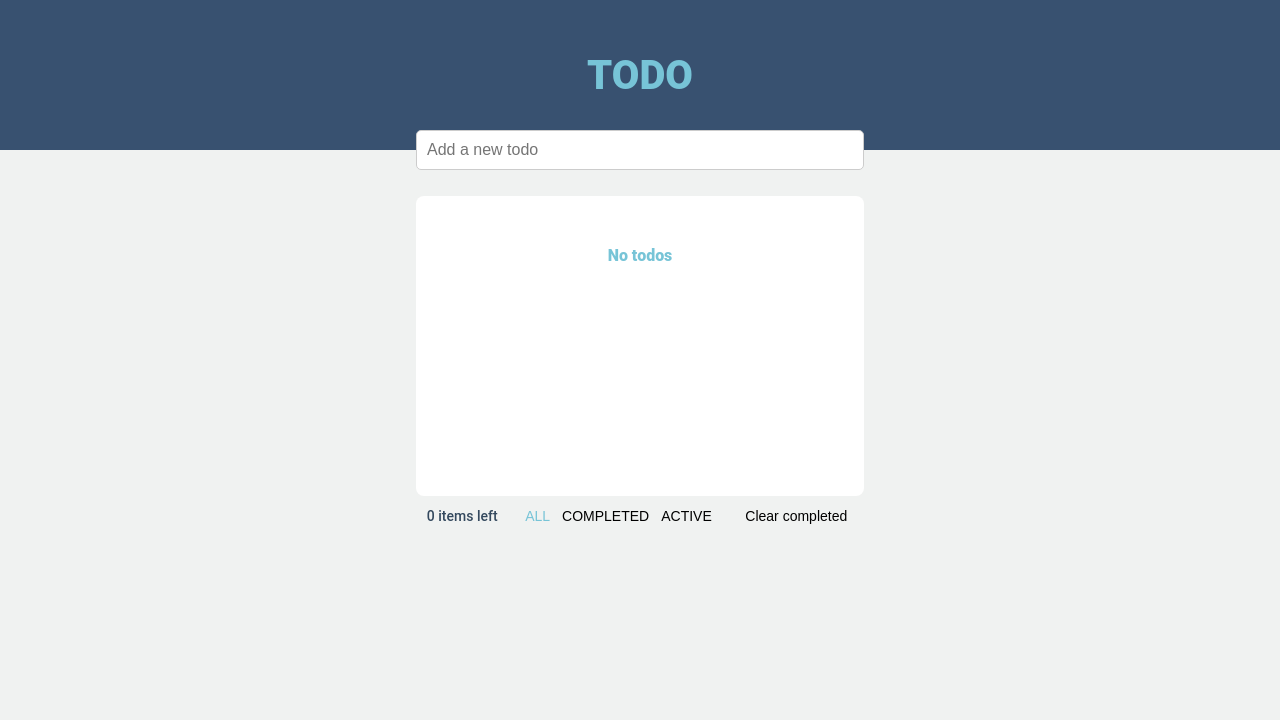
App › deletes a todo
Step 1. Type "Delete a Todo" into the field with class "todo-input" → (640, 150), box [416,130,864,170]
Then press Enter
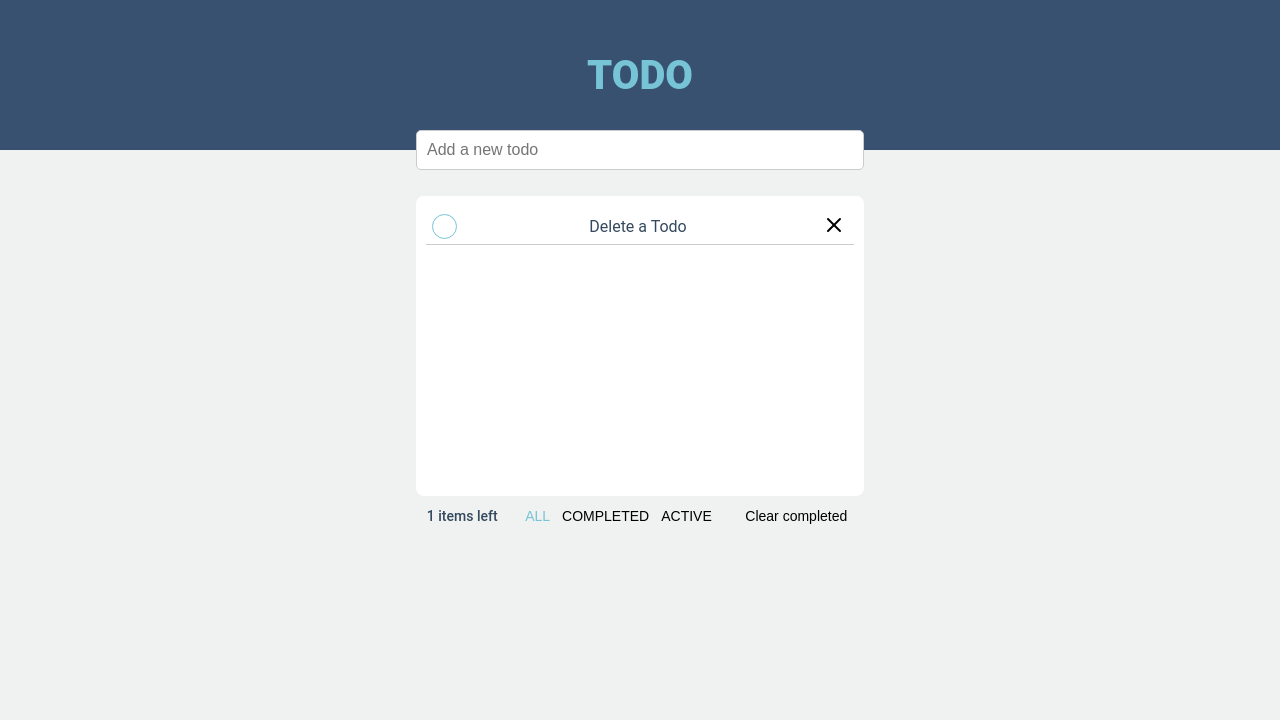
Expected: the text with class "todo-list" reads "Delete a Todo", [589,217,686,236]
Step 2. Click the button with class "delete-btn" → click(834, 227), box [816,212,852,241]
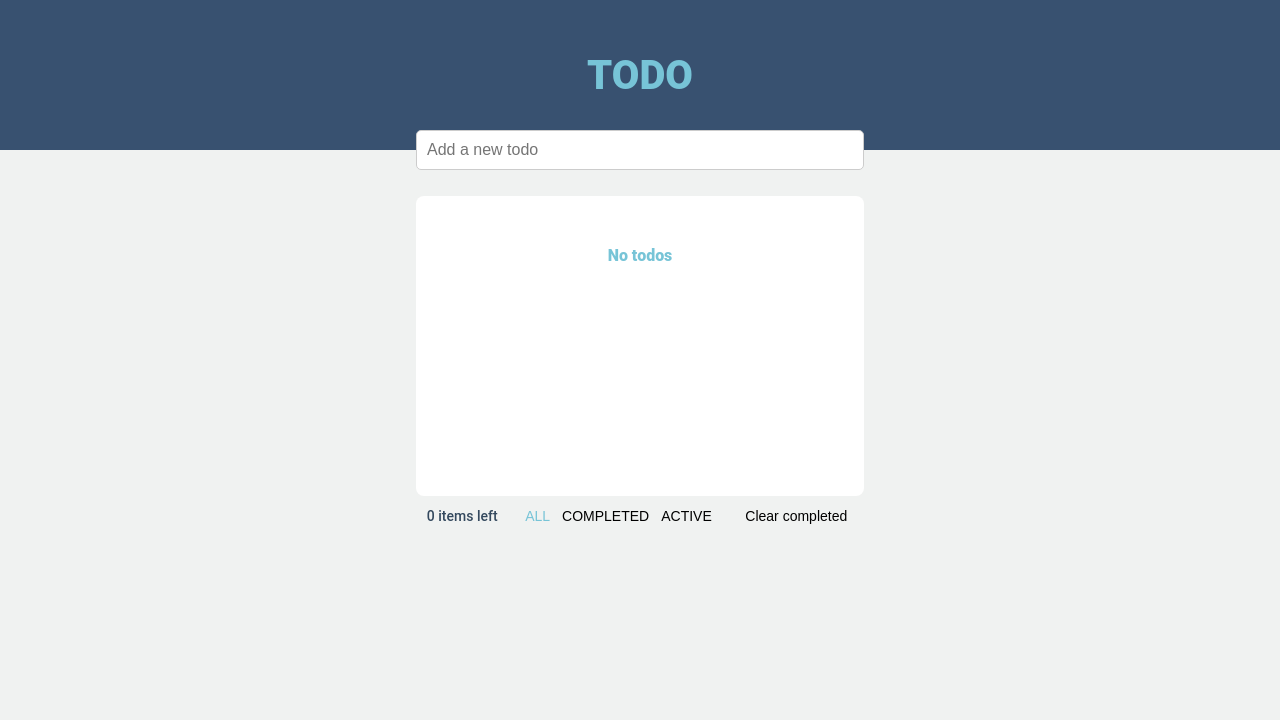
Expected: no list items are shown
